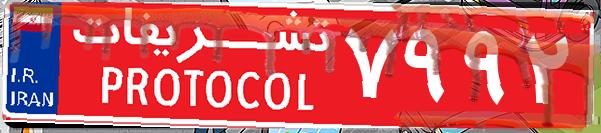2: (520, 20, 580, 115)
7: (340, 20, 400, 115)
9: (400, 20, 460, 115), (460, 20, 520, 115)
تشریفات: (60, 8, 340, 125)
